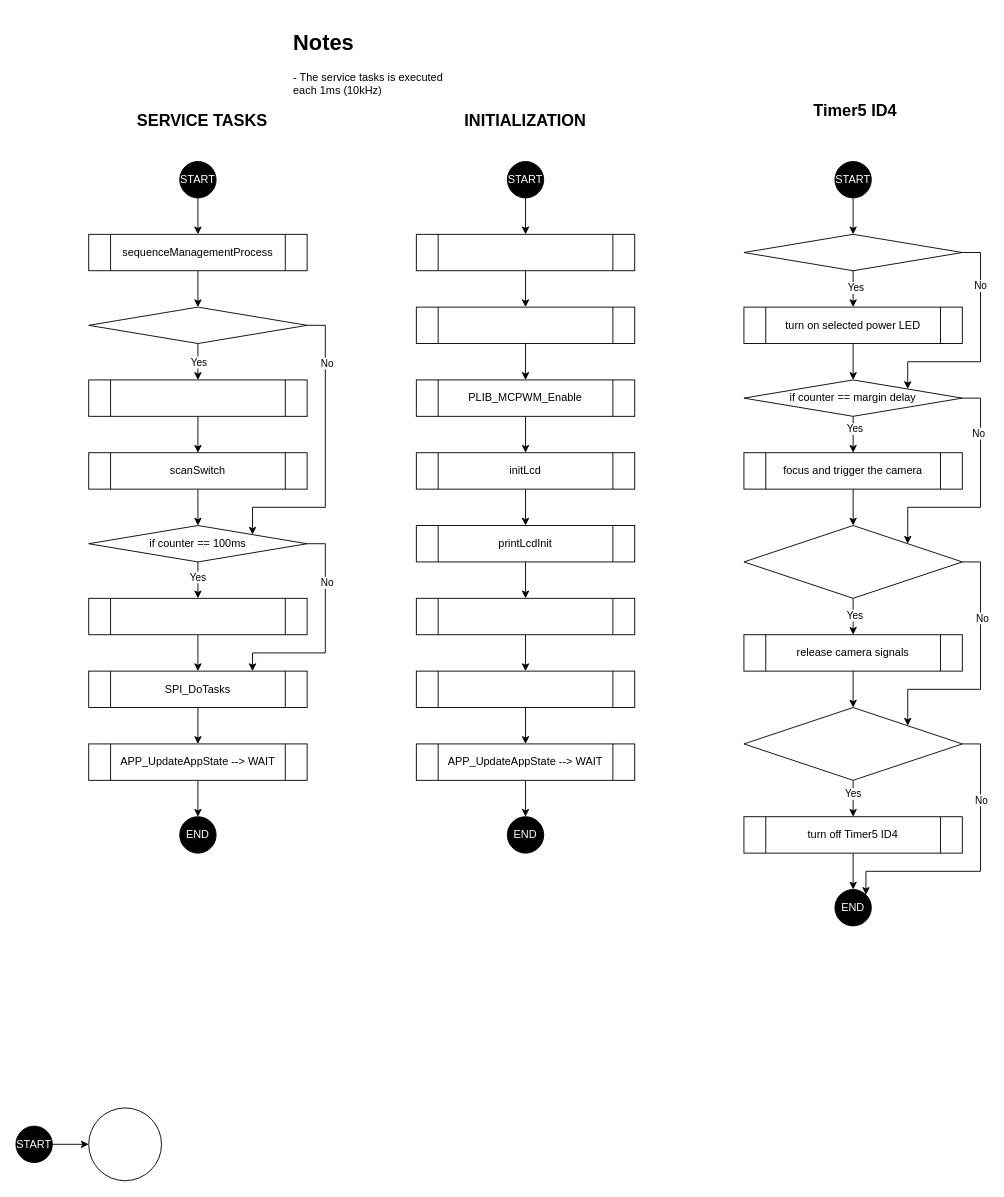
This 1004x1197 diagram has some shape labels left out. The centre of each missing label's shape, as x and y in pixels:
DRV_TMR1_Start DRV_TMR2_Start: [525,616]
if counter == 0ms: [852,252]
if counter == 1ms: [197,325]
if counter == exposureDuration + 2*margin: [852,743]
if counter == exposureDuration + margin: [852,561]
initStepperMotor: [525,325]
menuManagementProcess: [197,616]
printMainMenu: [525,689]
readDataFromEeprom: [525,252]
scanPec12: [197,397]
